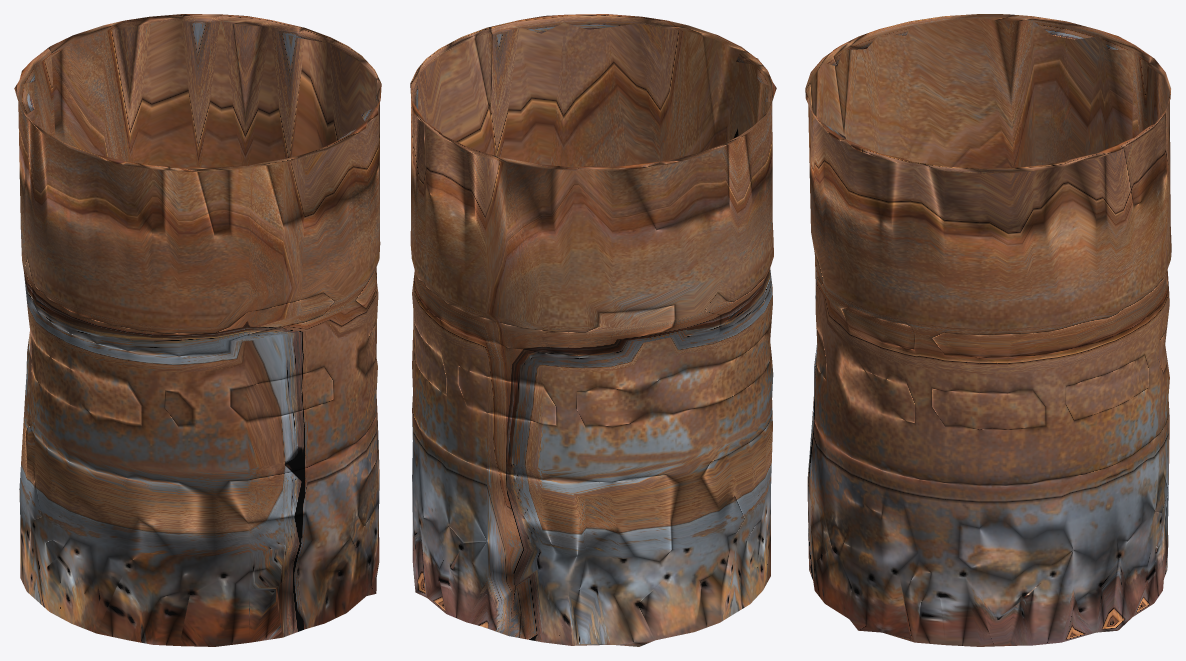
The model's file is barrel_stove.glb.
3 views of the same model, side by side, from view 1: azimuth 30°, elevation 25°; view 2: azimuth 150°, elevation 25°; view 3: azimuth 270°, elevation 25° (orthographic).
Visible parts, largest first — view 1: barrel_stove; view 2: barrel_stove; view 3: barrel_stove.
Part boxes in pixels (x1=…): barrel_stove: x1=14, y1=14, x2=381, y2=646; barrel_stove: x1=410, y1=14, x2=776, y2=646; barrel_stove: x1=805, y1=14, x2=1171, y2=646.
Size of the model in its own units: 0.5816 by 0.851 by 0.5829.
Materials: 1 (1 with a texture image).
